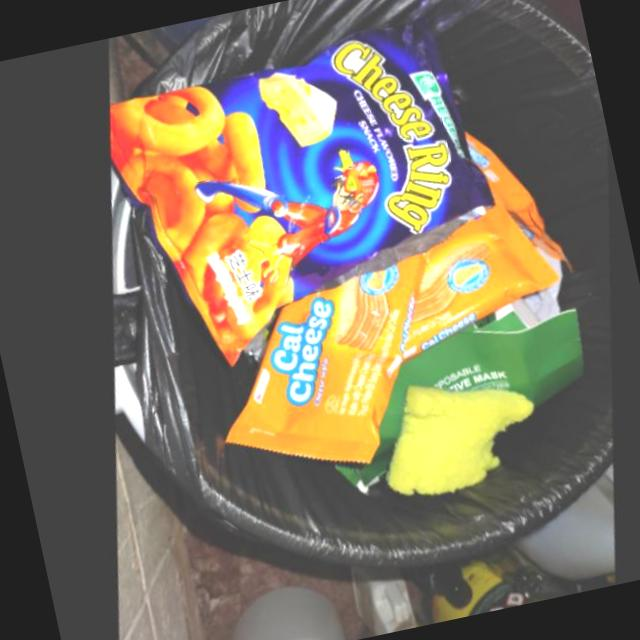bao_bi_thuc_pham: (98, 20, 487, 364), (221, 251, 419, 461), (396, 131, 556, 359)
carton: (331, 296, 577, 492)
